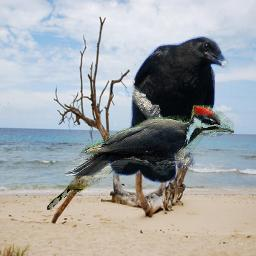Crow: (109, 36, 229, 185)
Cuckoo: (45, 145, 136, 211)
Woodpecker: (65, 105, 234, 176)
